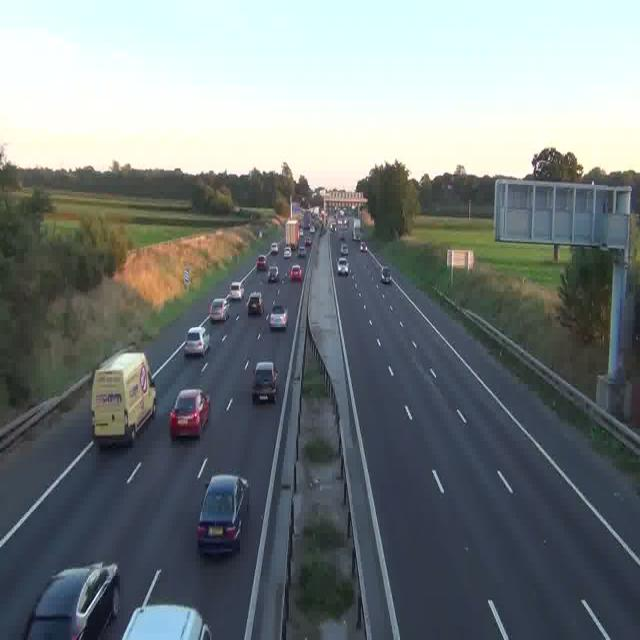car: (24, 562, 120, 639), (197, 474, 249, 554), (117, 603, 208, 640), (170, 389, 210, 438), (250, 362, 278, 402), (184, 326, 210, 356), (209, 298, 228, 322), (268, 305, 286, 330), (248, 292, 264, 314), (229, 282, 243, 301), (337, 256, 349, 275), (381, 266, 393, 284), (267, 264, 279, 281), (290, 265, 302, 281), (256, 255, 267, 270), (270, 242, 280, 255), (299, 243, 307, 256), (359, 241, 367, 252)
truck: (90, 352, 156, 445), (284, 217, 300, 250), (352, 218, 362, 242)
